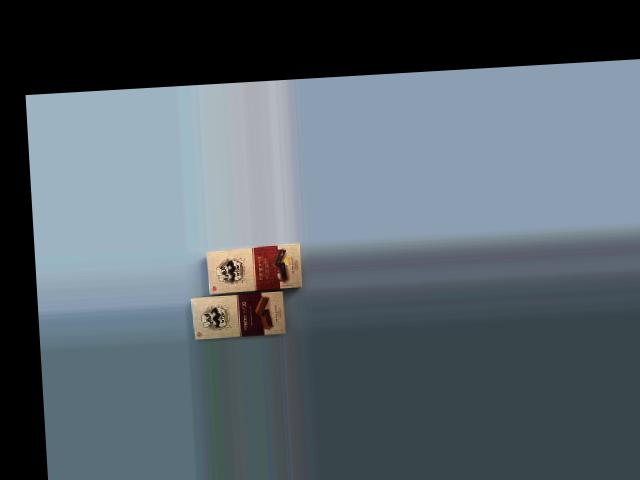chocolate: (201, 241, 305, 304)
